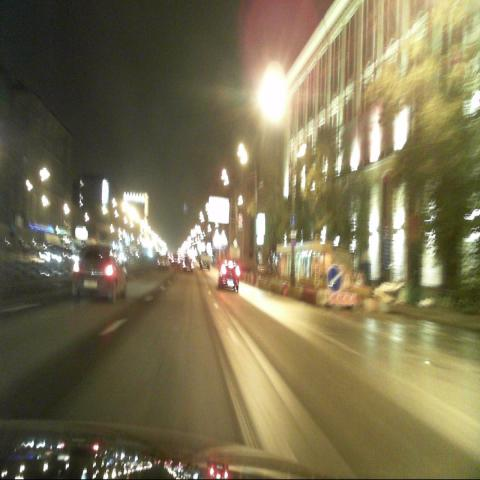4_2_2: (327, 266, 341, 292)
